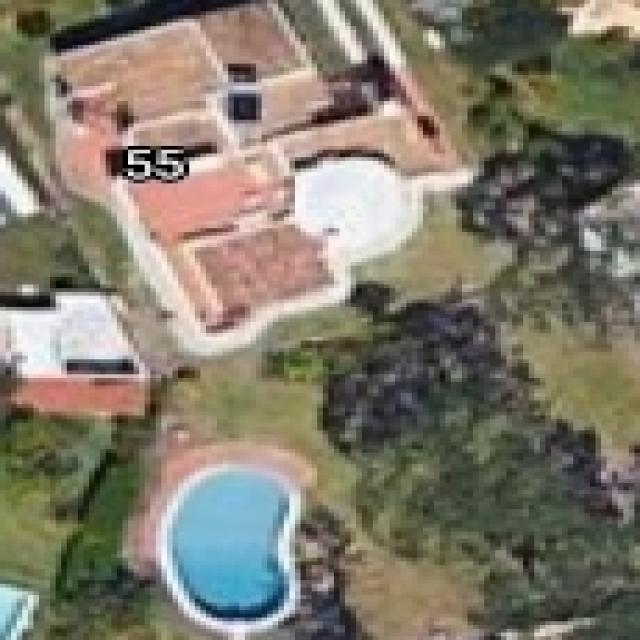swimming pool: (156, 464, 300, 625)
